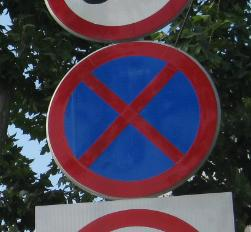No Parking: (48, 41, 229, 203)
